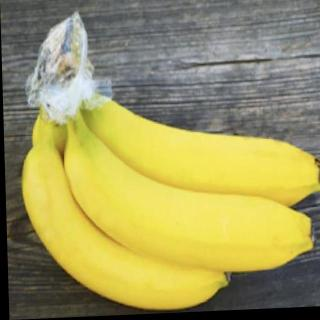banana: (61, 127, 315, 283), (18, 138, 230, 318), (71, 85, 320, 227)
